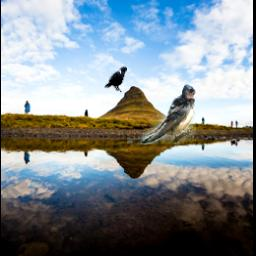Crow: (105, 68, 128, 93)
Swallow: (127, 85, 196, 145)
